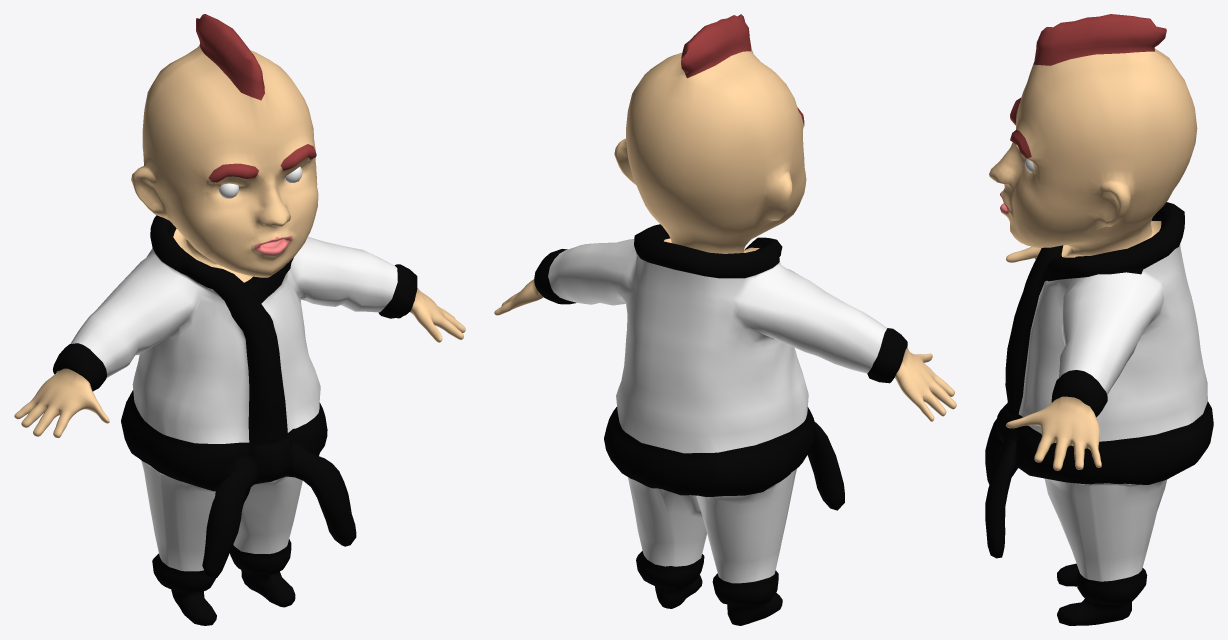
File: KungFuBabyProject.fbx
3 renders of one model, left to right at view 1: azimuth 30°, elevation 25°; view 2: azimuth 150°, elevation 25°; view 3: azimuth 270°, elevation 25°, orthographic. The views are drawn at different scales.
Visible parts, largest first — view 1: polySurface4 (×8); view 2: polySurface4 (×7); view 3: polySurface4 (×8).
Boxes of the visible parts, box(x1,y1,x2,y2) form: polySurface4 (×8): box(14, 14, 465, 625); polySurface4 (×7): box(494, 14, 956, 625); polySurface4 (×8): box(985, 14, 1213, 625).
Bounding box in the file's own units: 3.74 × 4.77 × 1.67.
